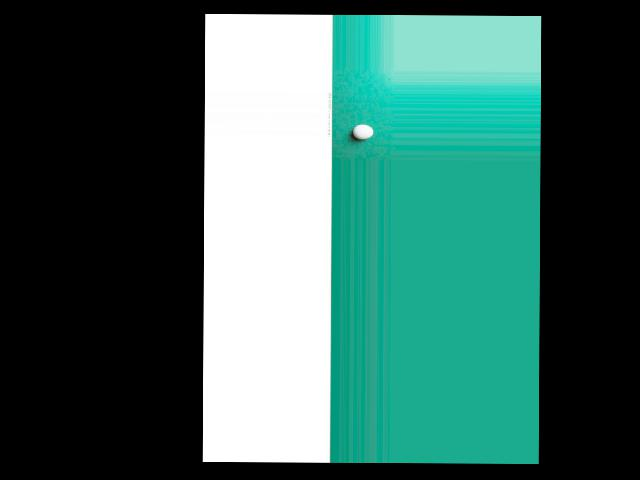egg: (352, 123, 373, 138)
